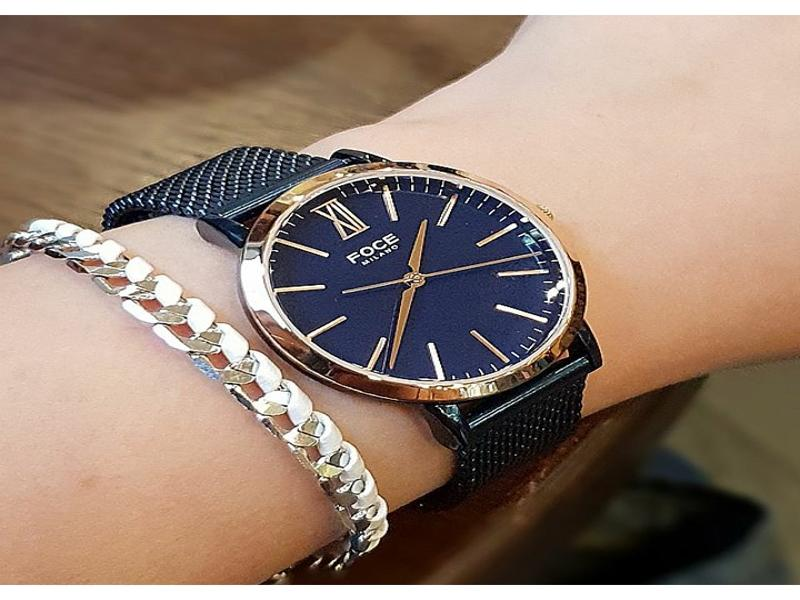watch: (95, 143, 605, 512)
